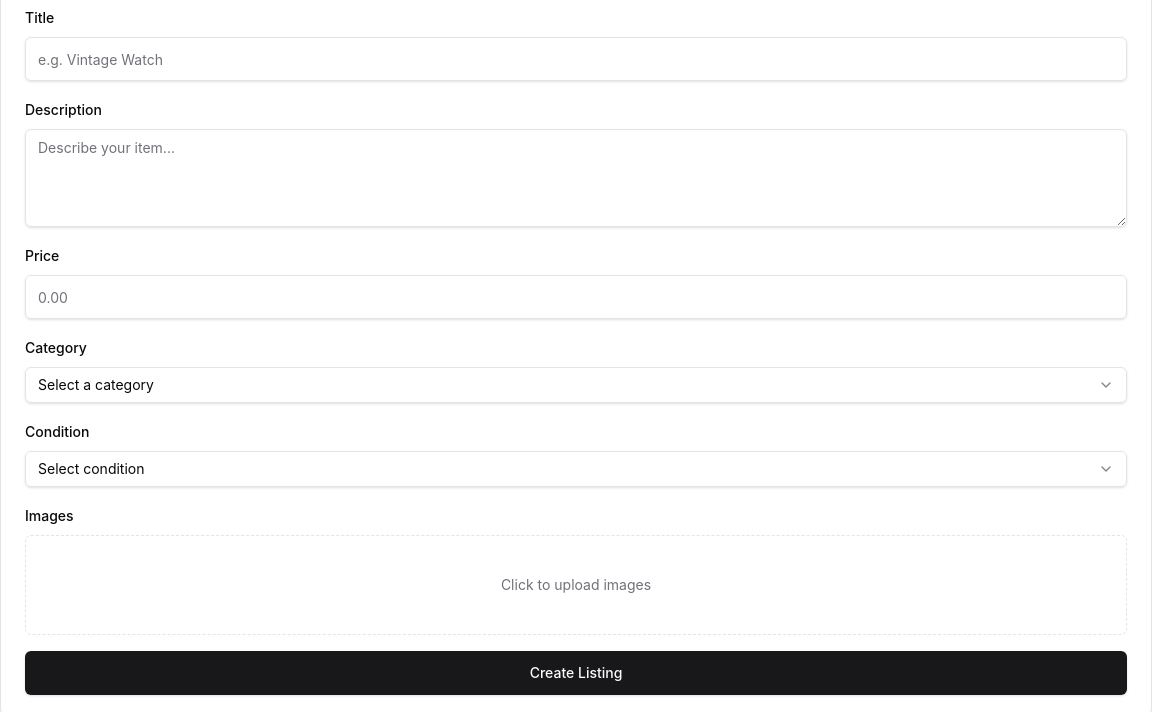
Test case: CreateListingForm › shows validation errors when submitted empty
(page scrolled)
Click the button "Create Listing". click: x=576, y=673
box: [25,651,1127,695]
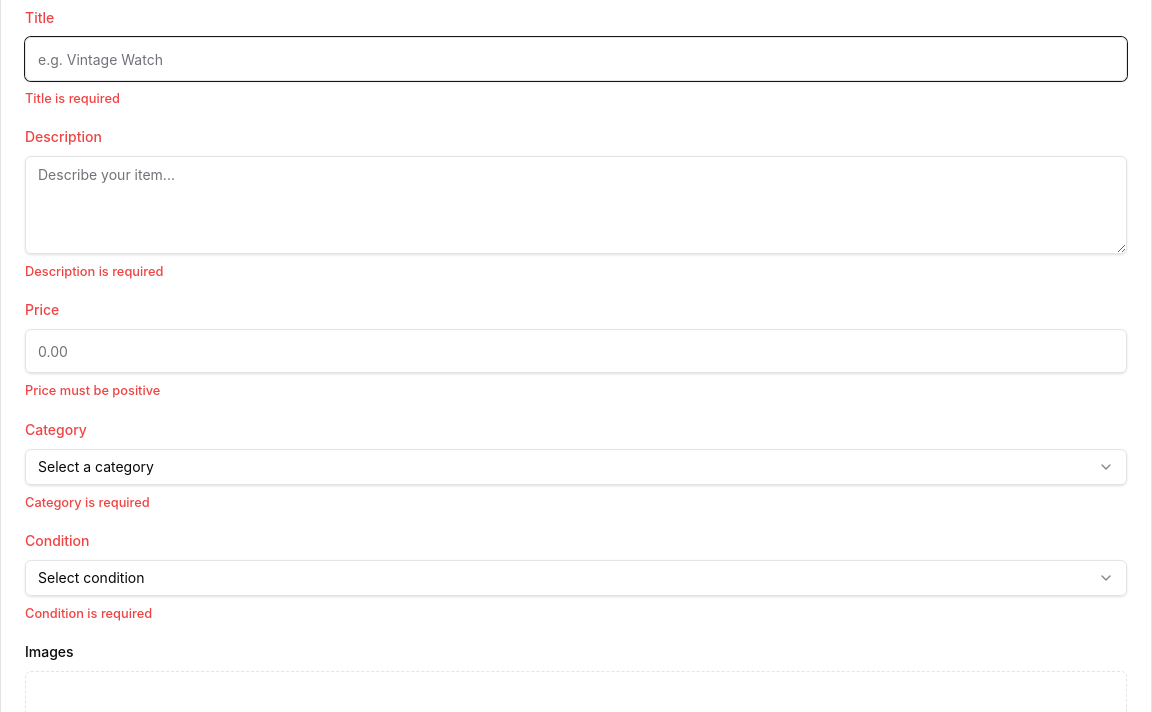
Now the text "Title is required" is shown, box [25,91,120,106]
Now the text "Description is required" is shown, box [25,264,163,279]
Now the text "Category is required" is shown, box [25,495,150,510]
